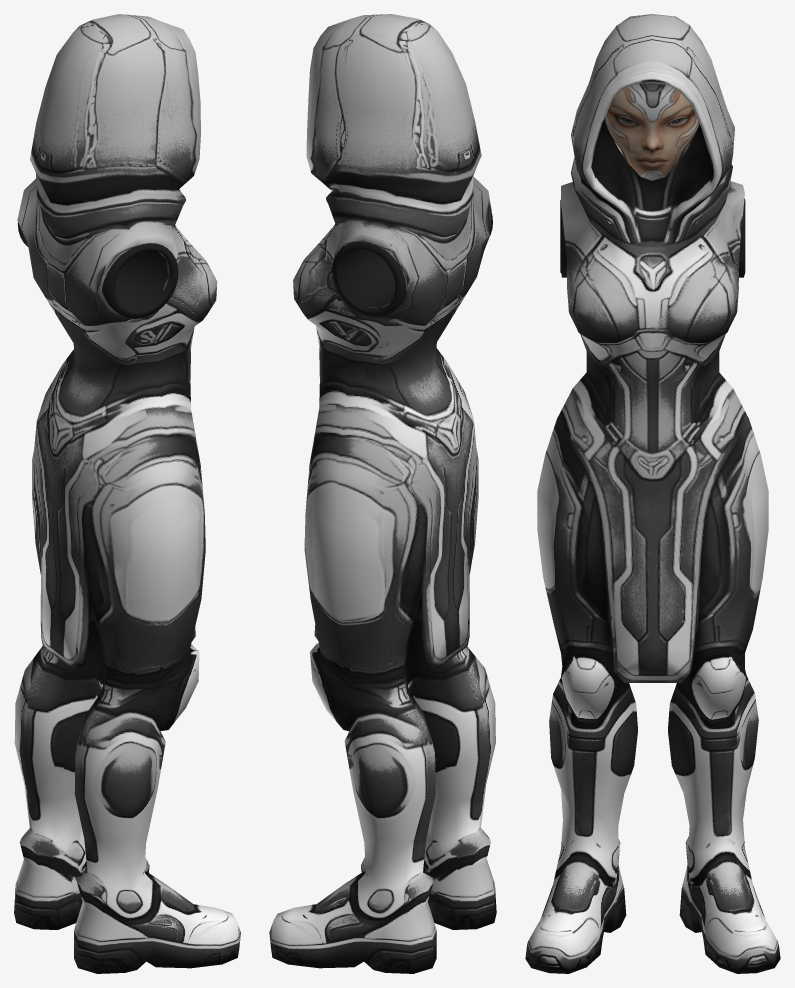
The model's file is fuzeball_womanZaneesh.glb.
The picture shows the model from 3 angles, left to right: view 1: azimuth 30°, elevation 25°; view 2: azimuth 150°, elevation 25°; view 3: azimuth 270°, elevation 25°; orthographic projection.
Visible parts, largest first — view 1: womanZaneesh; view 2: womanZaneesh; view 3: womanZaneesh.
Part boxes in pixels (left/top/right/bottom): womanZaneesh: left=14, top=14, right=240, bottom=973; womanZaneesh: left=269, top=14, right=496, bottom=973; womanZaneesh: left=525, top=14, right=780, bottom=973.
Bounding box in the file's own units: 1.99 × 11.15 × 2.82.
3 materials, 2 textured.
